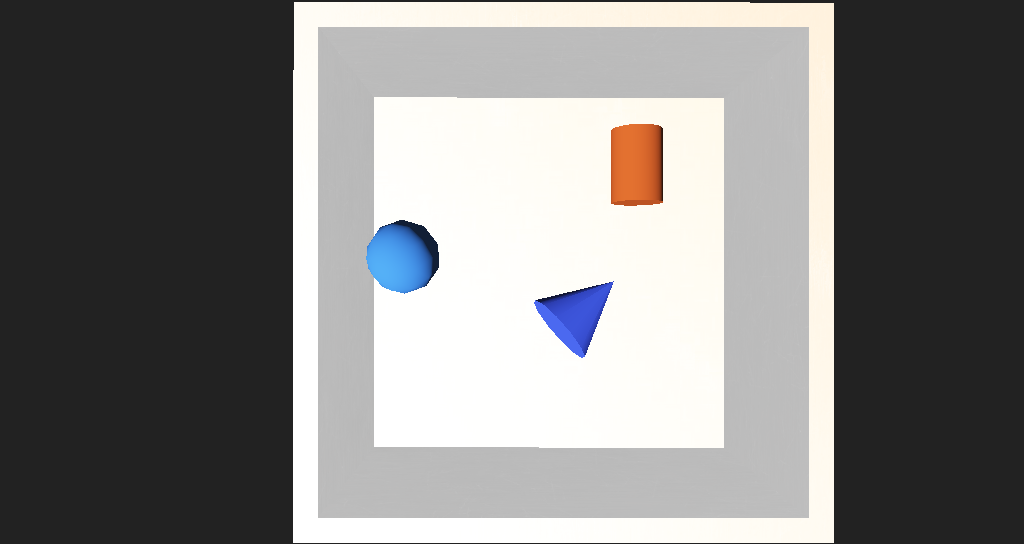cone: (552, 179, 606, 231)
cylinder: (488, 260, 589, 322)
sphere: (354, 234, 414, 282)
